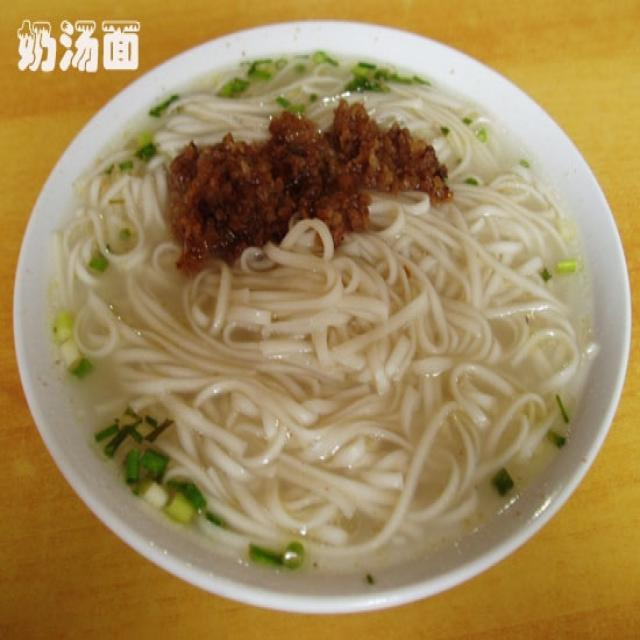面条主食: (31, 39, 608, 586)
